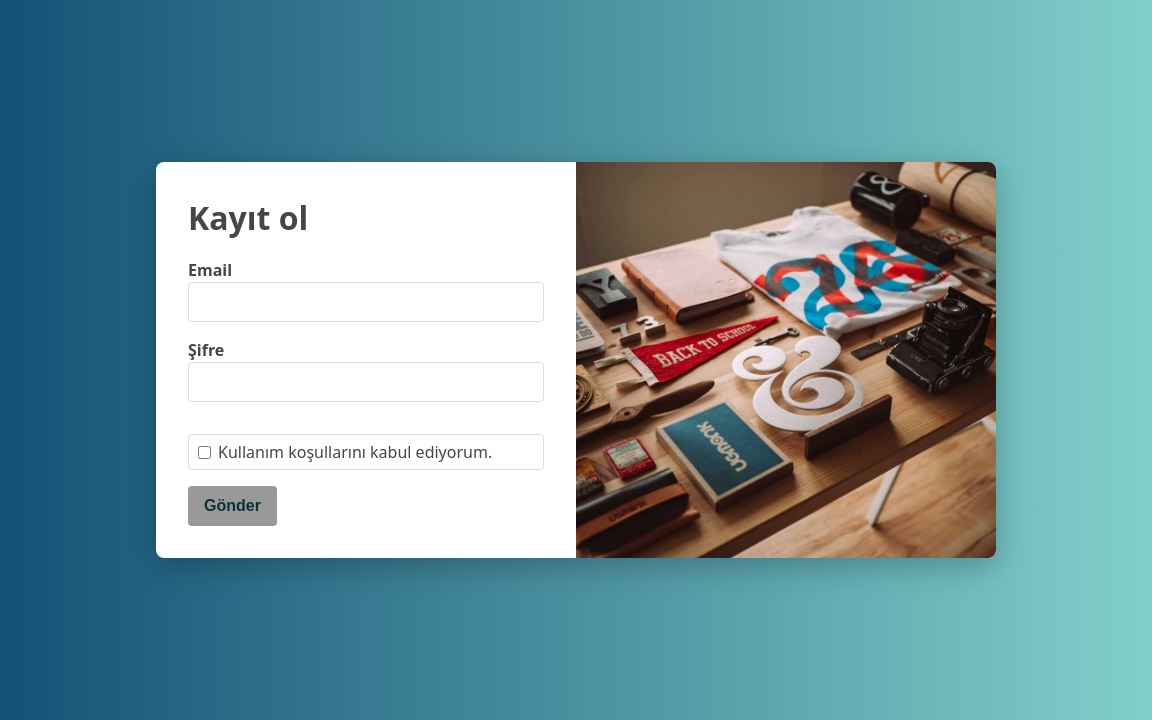
Password yanlış doldurulunca hata mesajı görünüyor mu?
Type "123" into the password field with test id "password" at (366, 382), box [188,362,544,402]
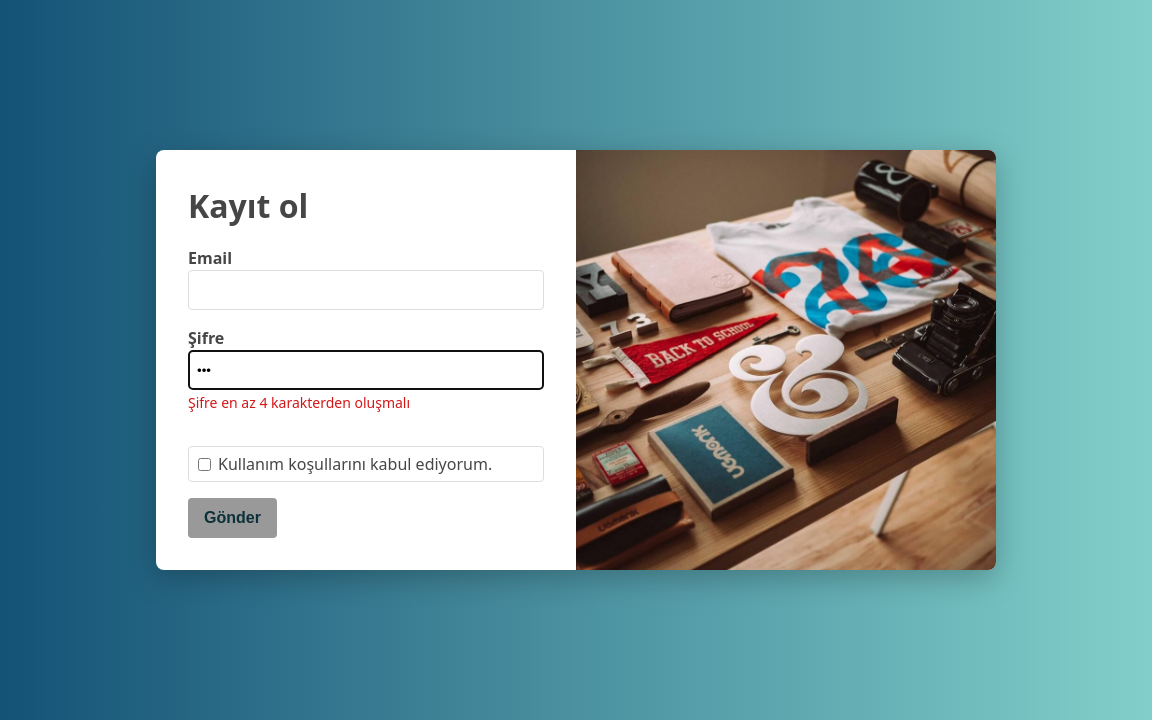
Now the text "Şifre en az 4 karakterden oluşmalı" is shown, box [188,393,410,412]
